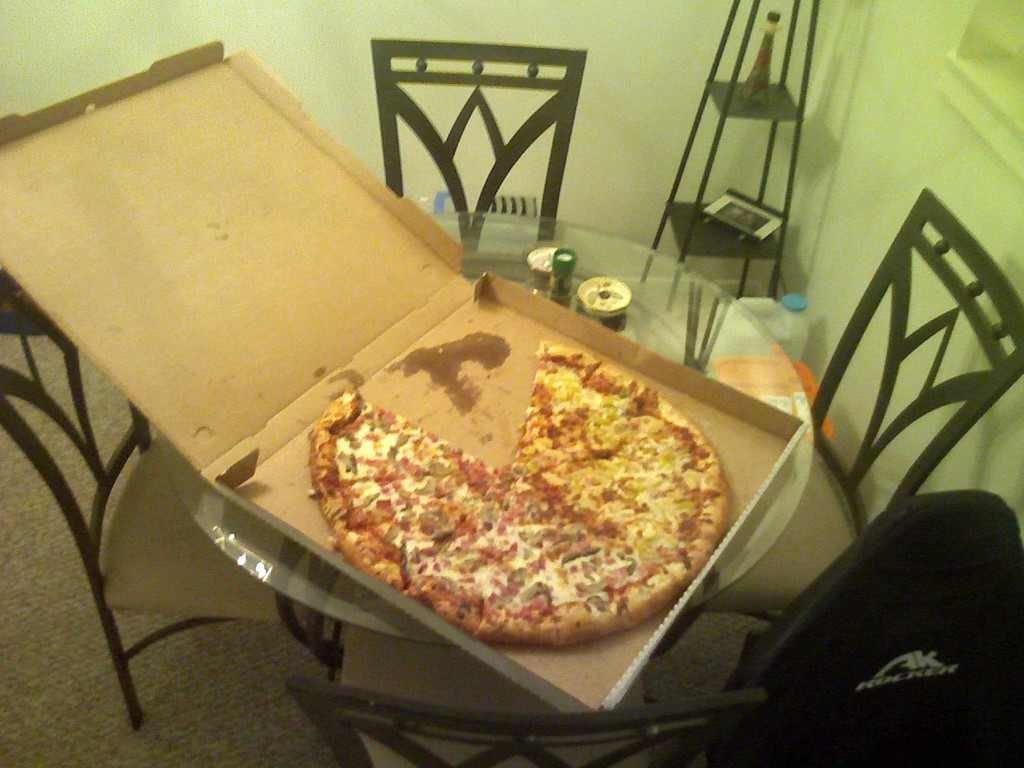Pizza: (309, 342, 730, 646)
